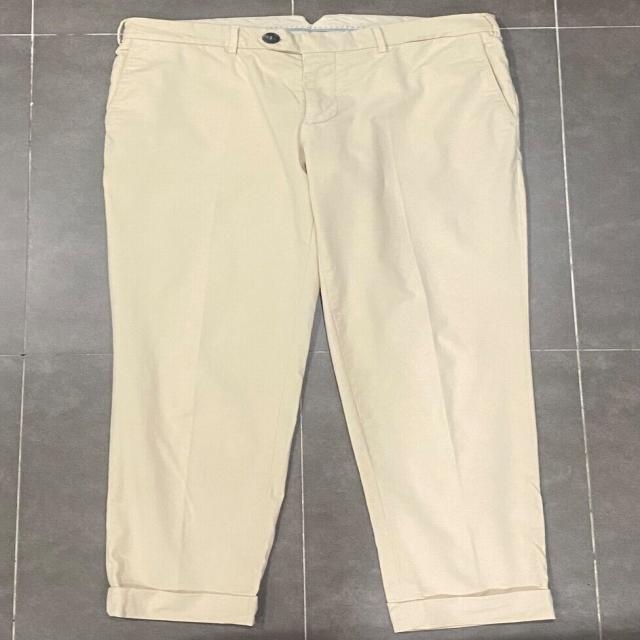long-pants: (99, 9, 562, 631)
